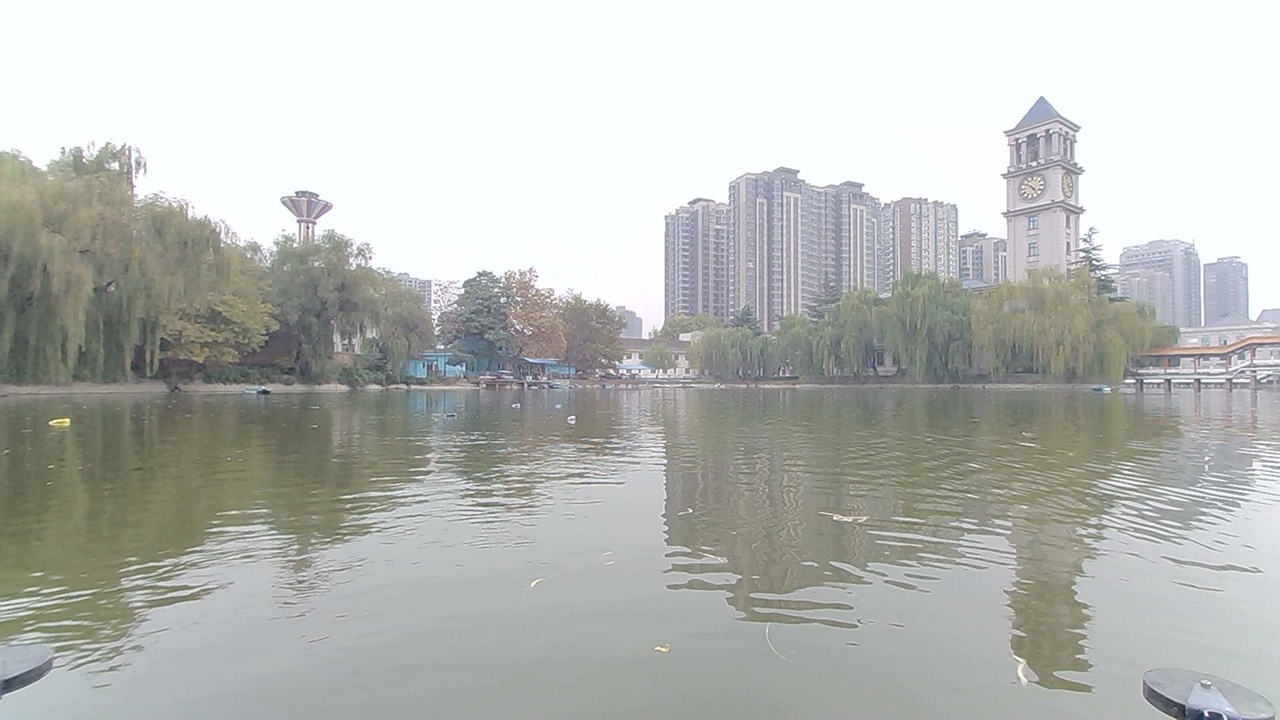bottle: (560, 407, 592, 430), (46, 412, 76, 436), (437, 404, 467, 426), (539, 397, 572, 414), (509, 397, 531, 416)
